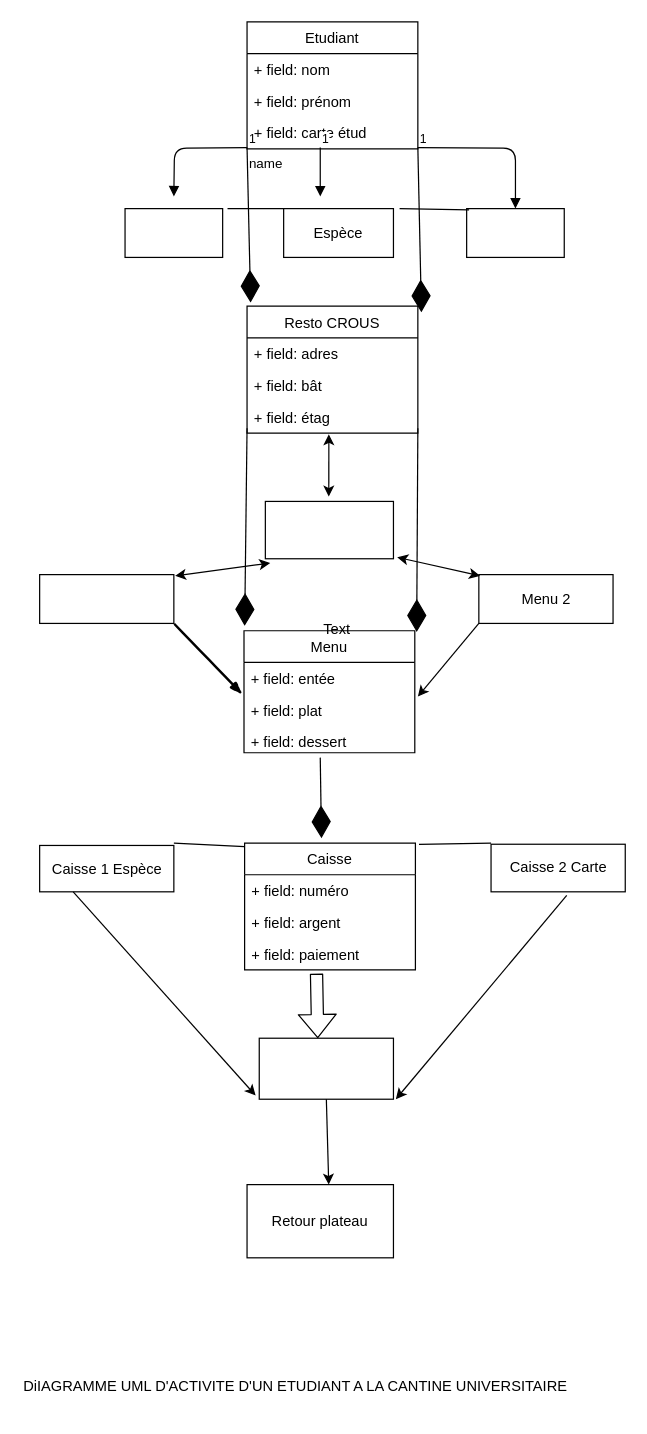
The diagram is 647 pixels wide and 1434 high, and some of its shapes have lost their labels. Here are the shapes that lost their labels. From the top down, the centre of each, then its label:
At (173,232): "CB".
At (514,232): "Carte CROUS".
At (328,529): "Choix Menu".
At (106,598): "Menu 1".
At (325,1068): "Table".
